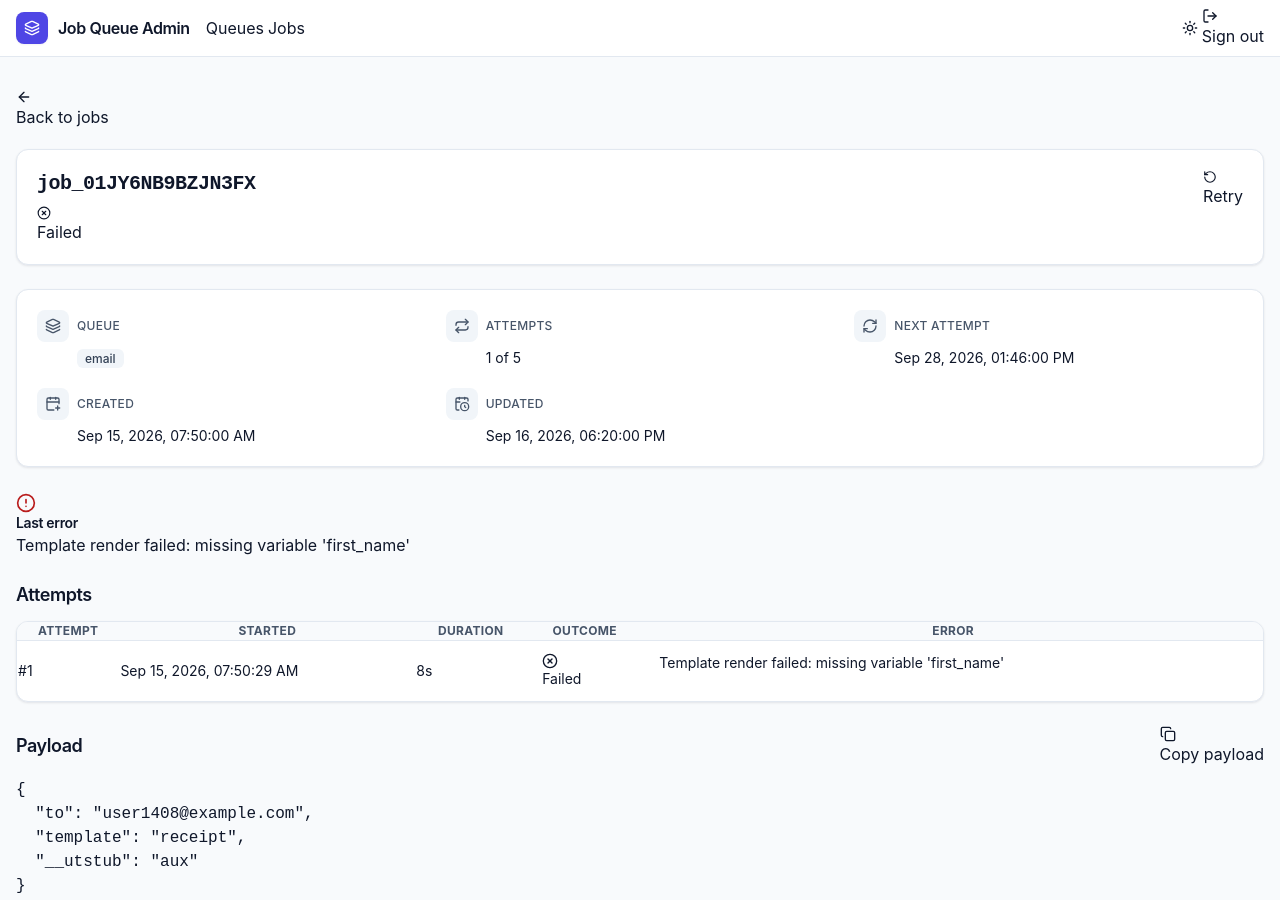
Test case: job detail › retries a failed job
This screenshot has width=1280, height=900.
Step 1. Click the button "Retry" → coordinates (1223, 189), box x1=1203 y1=170 x2=1243 y2=208
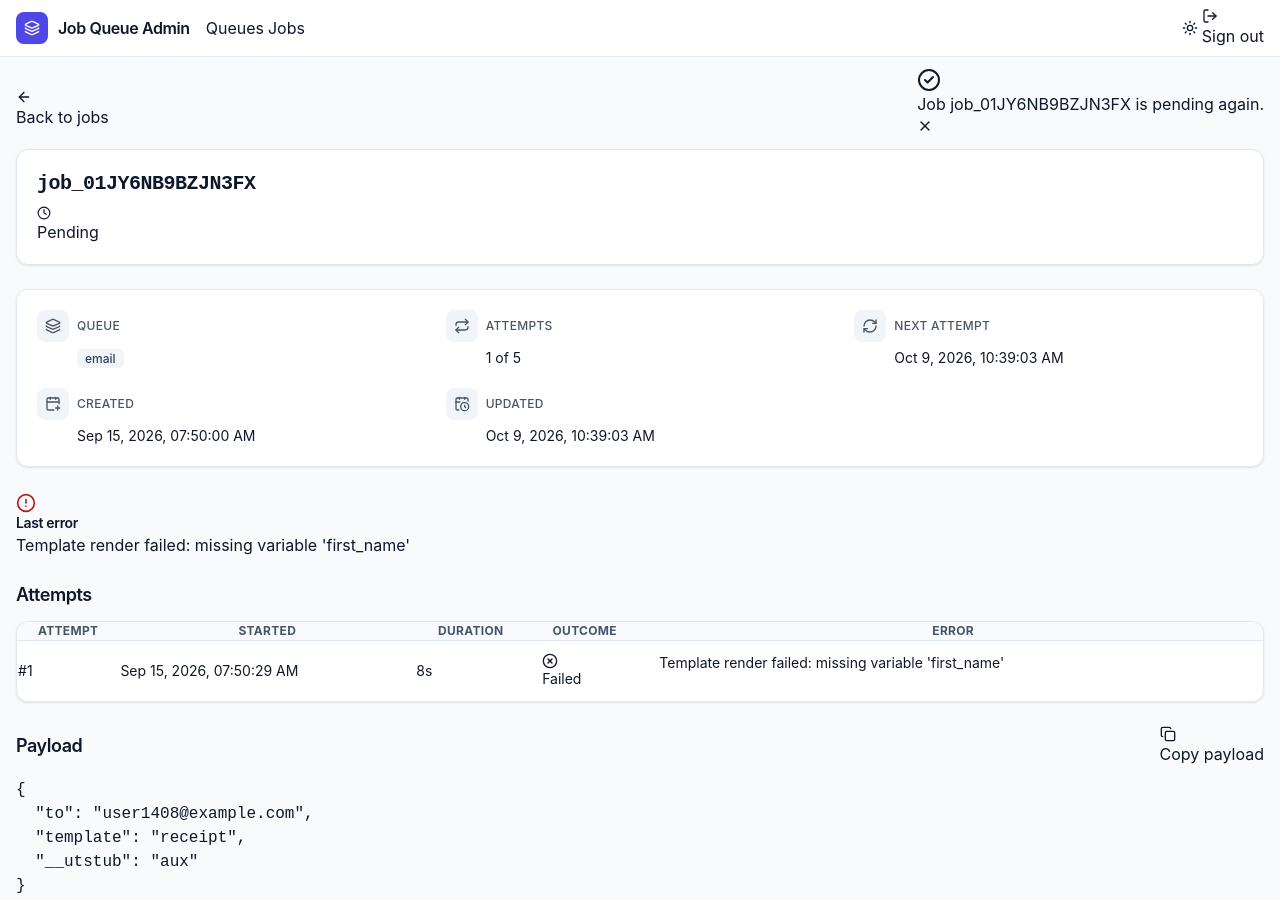
Now the text "Pending" is shown, box x1=37 y1=206 x2=99 y2=242
